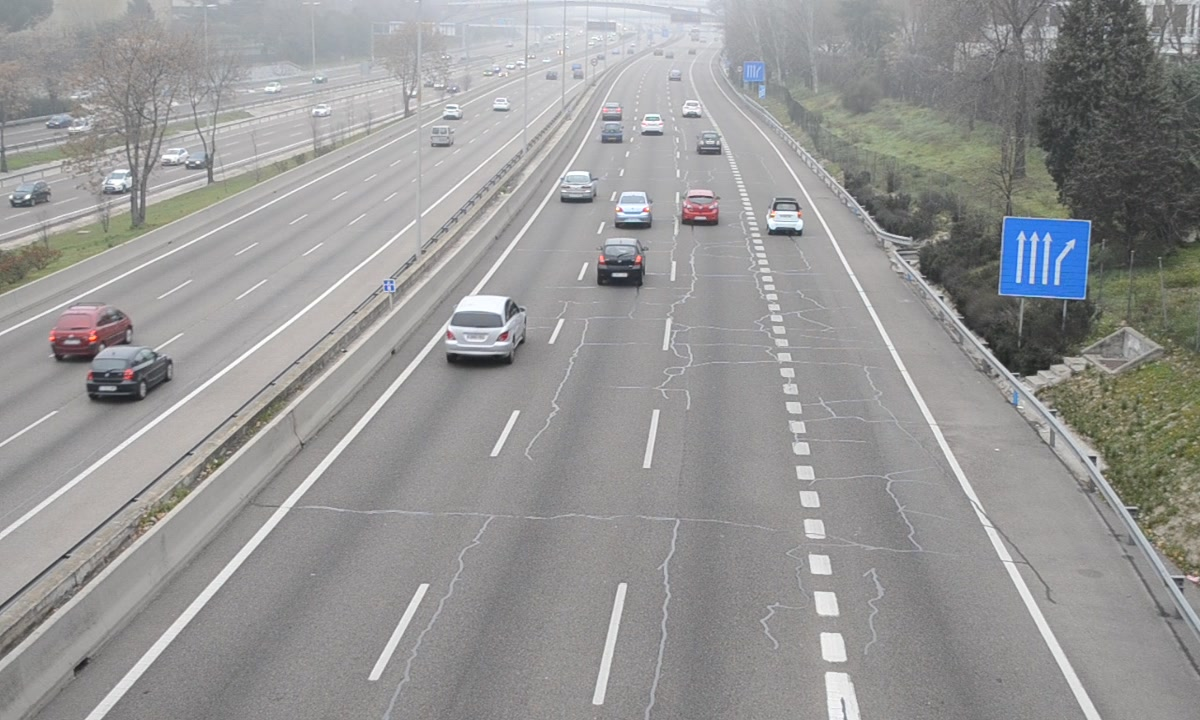car: (443, 295, 527, 359), (596, 238, 648, 288), (683, 188, 722, 227), (767, 197, 803, 237), (615, 191, 652, 229), (559, 171, 599, 204), (696, 131, 723, 157), (639, 112, 665, 136), (599, 122, 624, 145)
